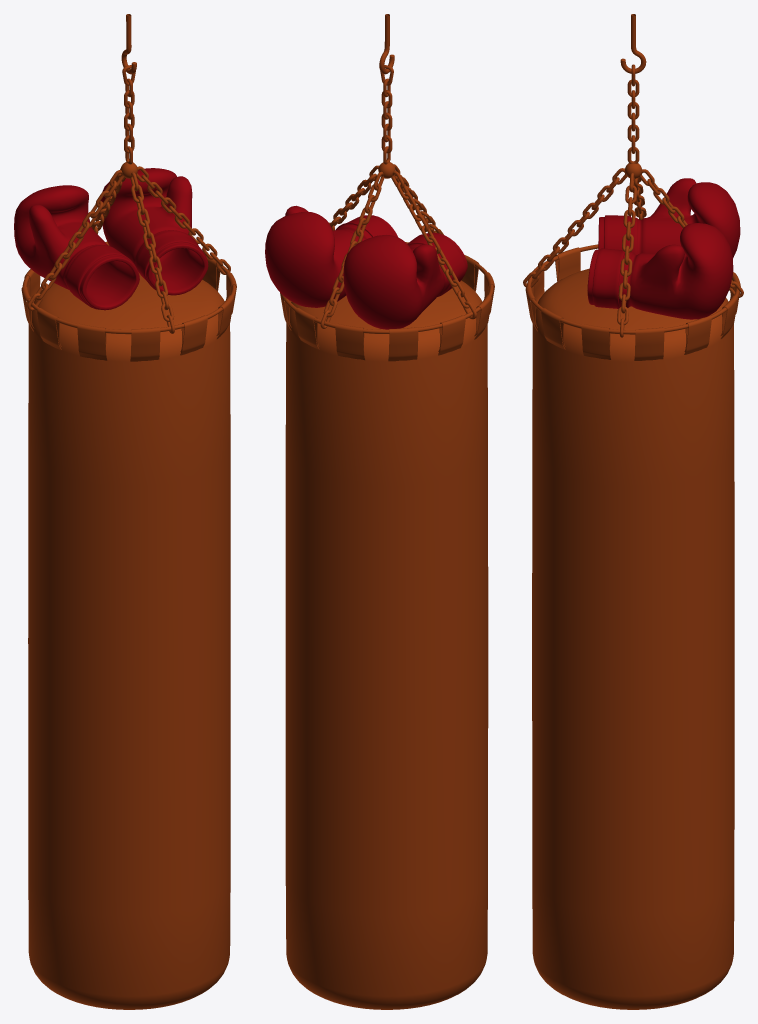
Rendered from Boxing Gloves + Pear-1.fbx.
3 views of the same model, side by side, from view 1: azimuth 30°, elevation 25°; view 2: azimuth 150°, elevation 25°; view 3: azimuth 270°, elevation 25° (orthographic).
Parts seen in each view (by area): view 1: Boxing_Pear001, Boxing_Glove; view 2: Boxing_Pear001, Boxing_Glove; view 3: Boxing_Pear001, Boxing_Glove.
Boxes of the visible parts, x1,y1,x2,y2 form: Boxing_Pear001: [21, 14, 236, 1009]; Boxing_Glove: [14, 168, 208, 310]; Boxing_Pear001: [280, 14, 494, 1009]; Boxing_Glove: [265, 205, 467, 329]; Boxing_Pear001: [523, 14, 743, 1009]; Boxing_Glove: [587, 178, 740, 319].
Size of the model in its own units: 432 by 2096 by 432.
